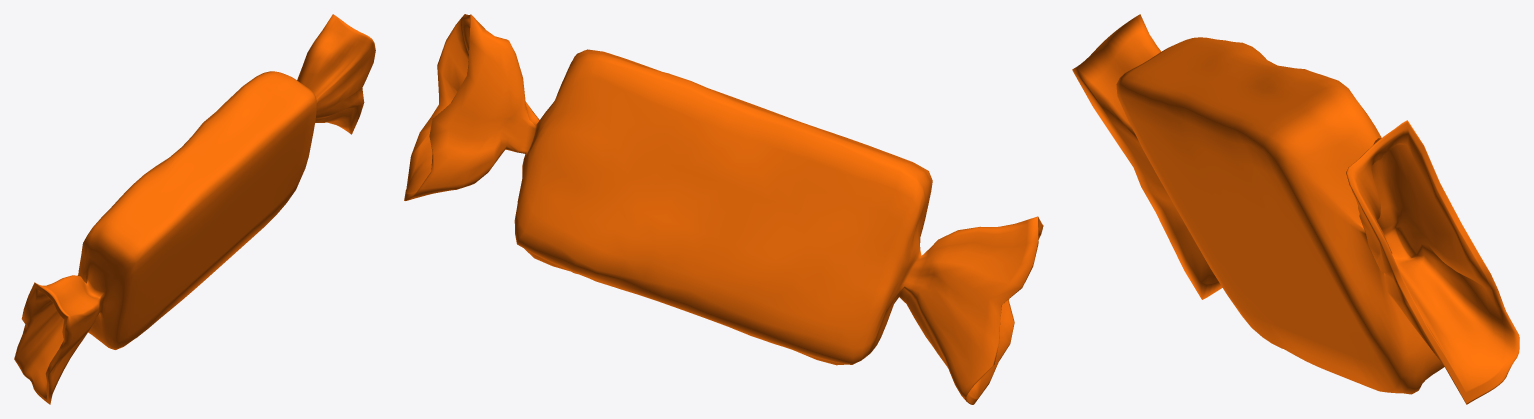
The model's file is grape.gltf.
The picture shows the model from 3 angles, left to right: view 1: azimuth 30°, elevation 25°; view 2: azimuth 150°, elevation 25°; view 3: azimuth 270°, elevation 25°; orthographic projection. The views are drawn at different scales.
Visible parts, largest first — view 1: Cube; view 2: Cube; view 3: Cube.
Boxes of the visible parts, bbox=[...] form: Cube: bbox=[14, 14, 375, 404]; Cube: bbox=[404, 14, 1043, 404]; Cube: bbox=[1072, 14, 1519, 404].
Bounding box in the file's own units: 0.3614 × 0.2222 × 0.1886.
